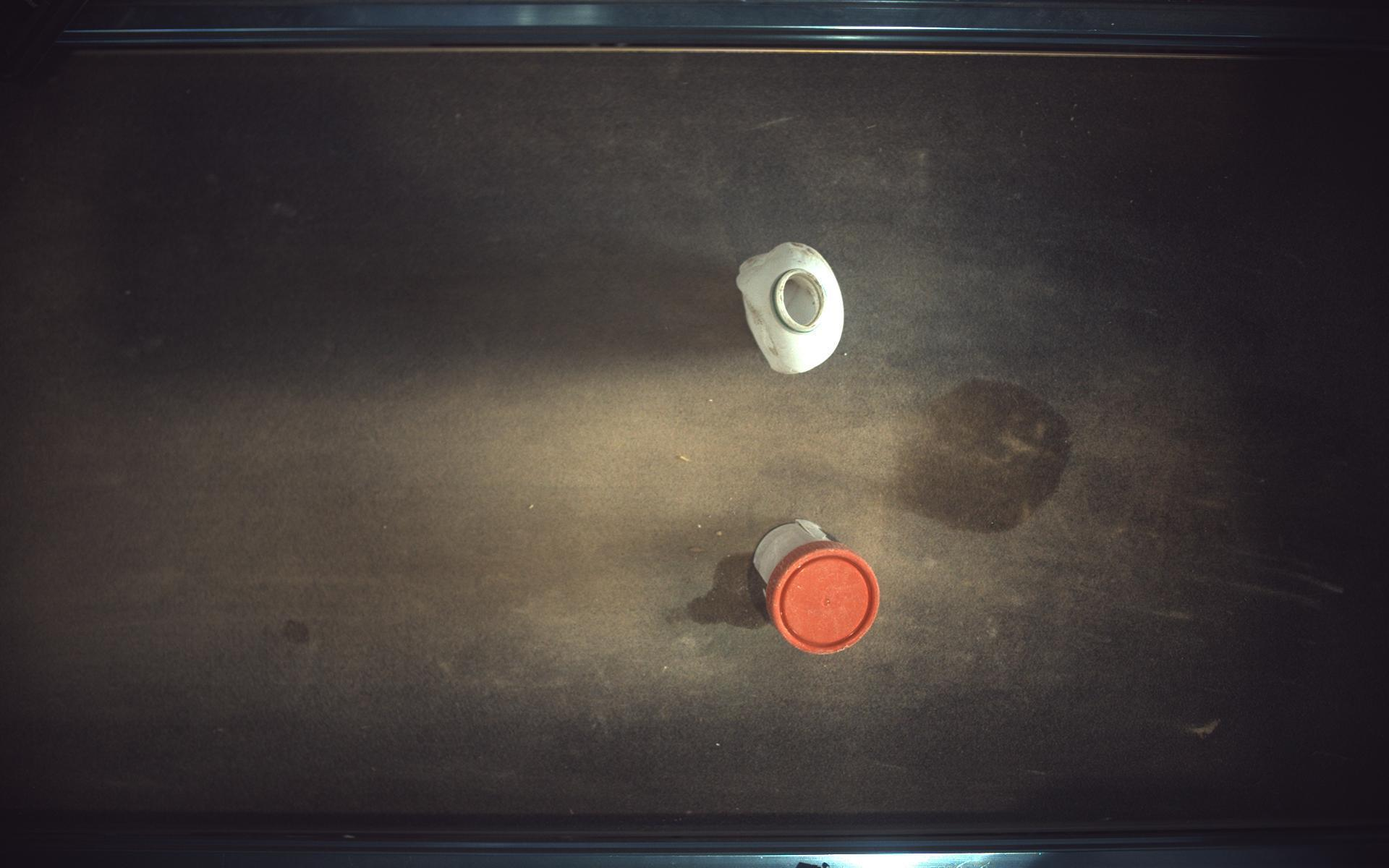general_w: (755, 520, 881, 655), (738, 242, 846, 374)
